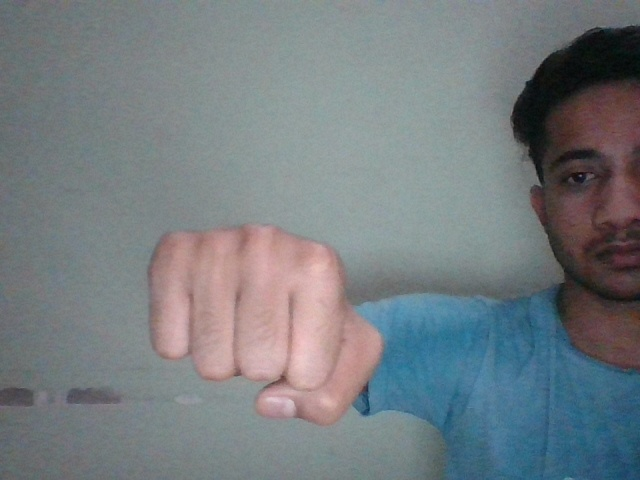yes: (143, 226, 383, 428)
